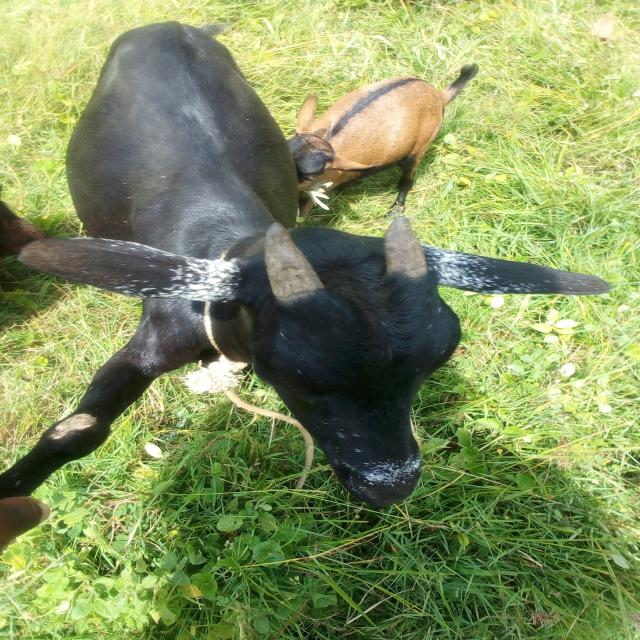goat: (2, 12, 627, 594)
